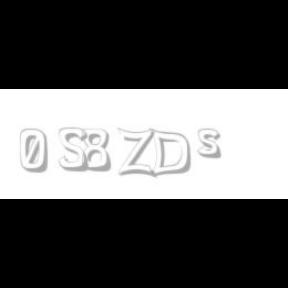0: (20, 128, 50, 174)
8: (82, 128, 110, 172)
D: (148, 128, 190, 178)
S: (58, 128, 89, 172)
Z: (118, 128, 154, 178)
s: (198, 128, 226, 160)
